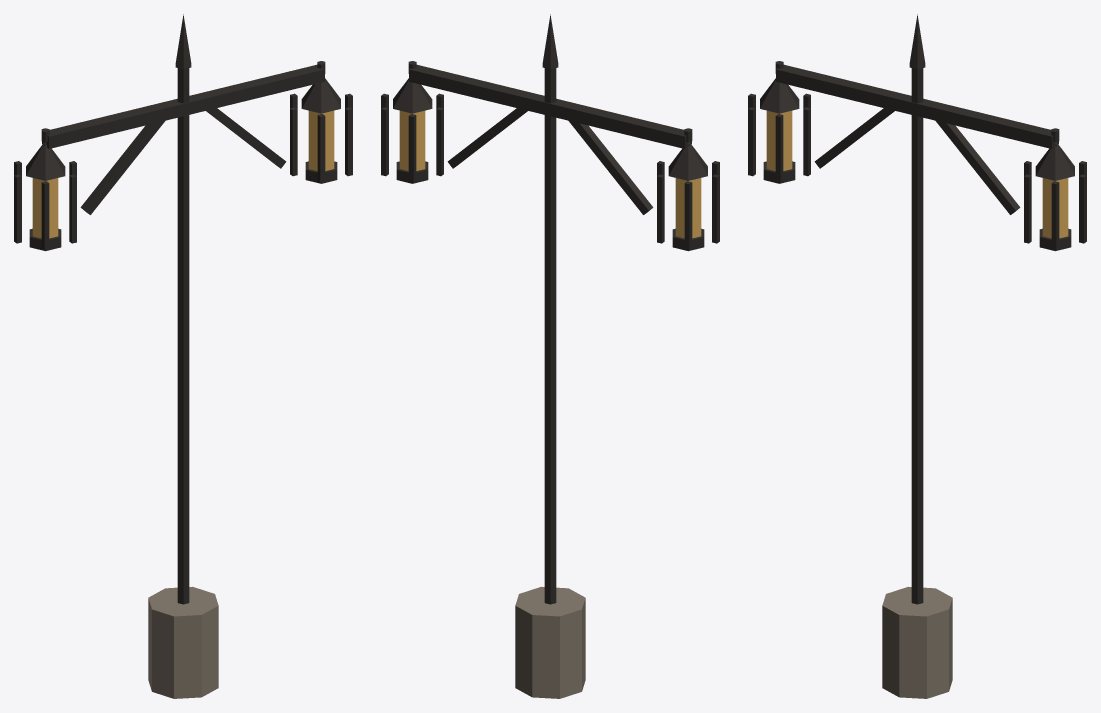
File: double-lamp.glb
3 views of the same model, side by side, from view 1: azimuth 30°, elevation 25°; view 2: azimuth 150°, elevation 25°; view 3: azimuth 330°, elevation 25° (orthographic).
Visible parts, largest first — view 1: props/double-lamp; view 2: props/double-lamp; view 3: props/double-lamp.
Part boxes in pixels (x1,y1,x2,y2): props/double-lamp: [14, 14, 352, 698]; props/double-lamp: [381, 14, 719, 698]; props/double-lamp: [748, 14, 1086, 698].
Bounding box in the file's own units: 1.71 × 3.25 × 0.32.
